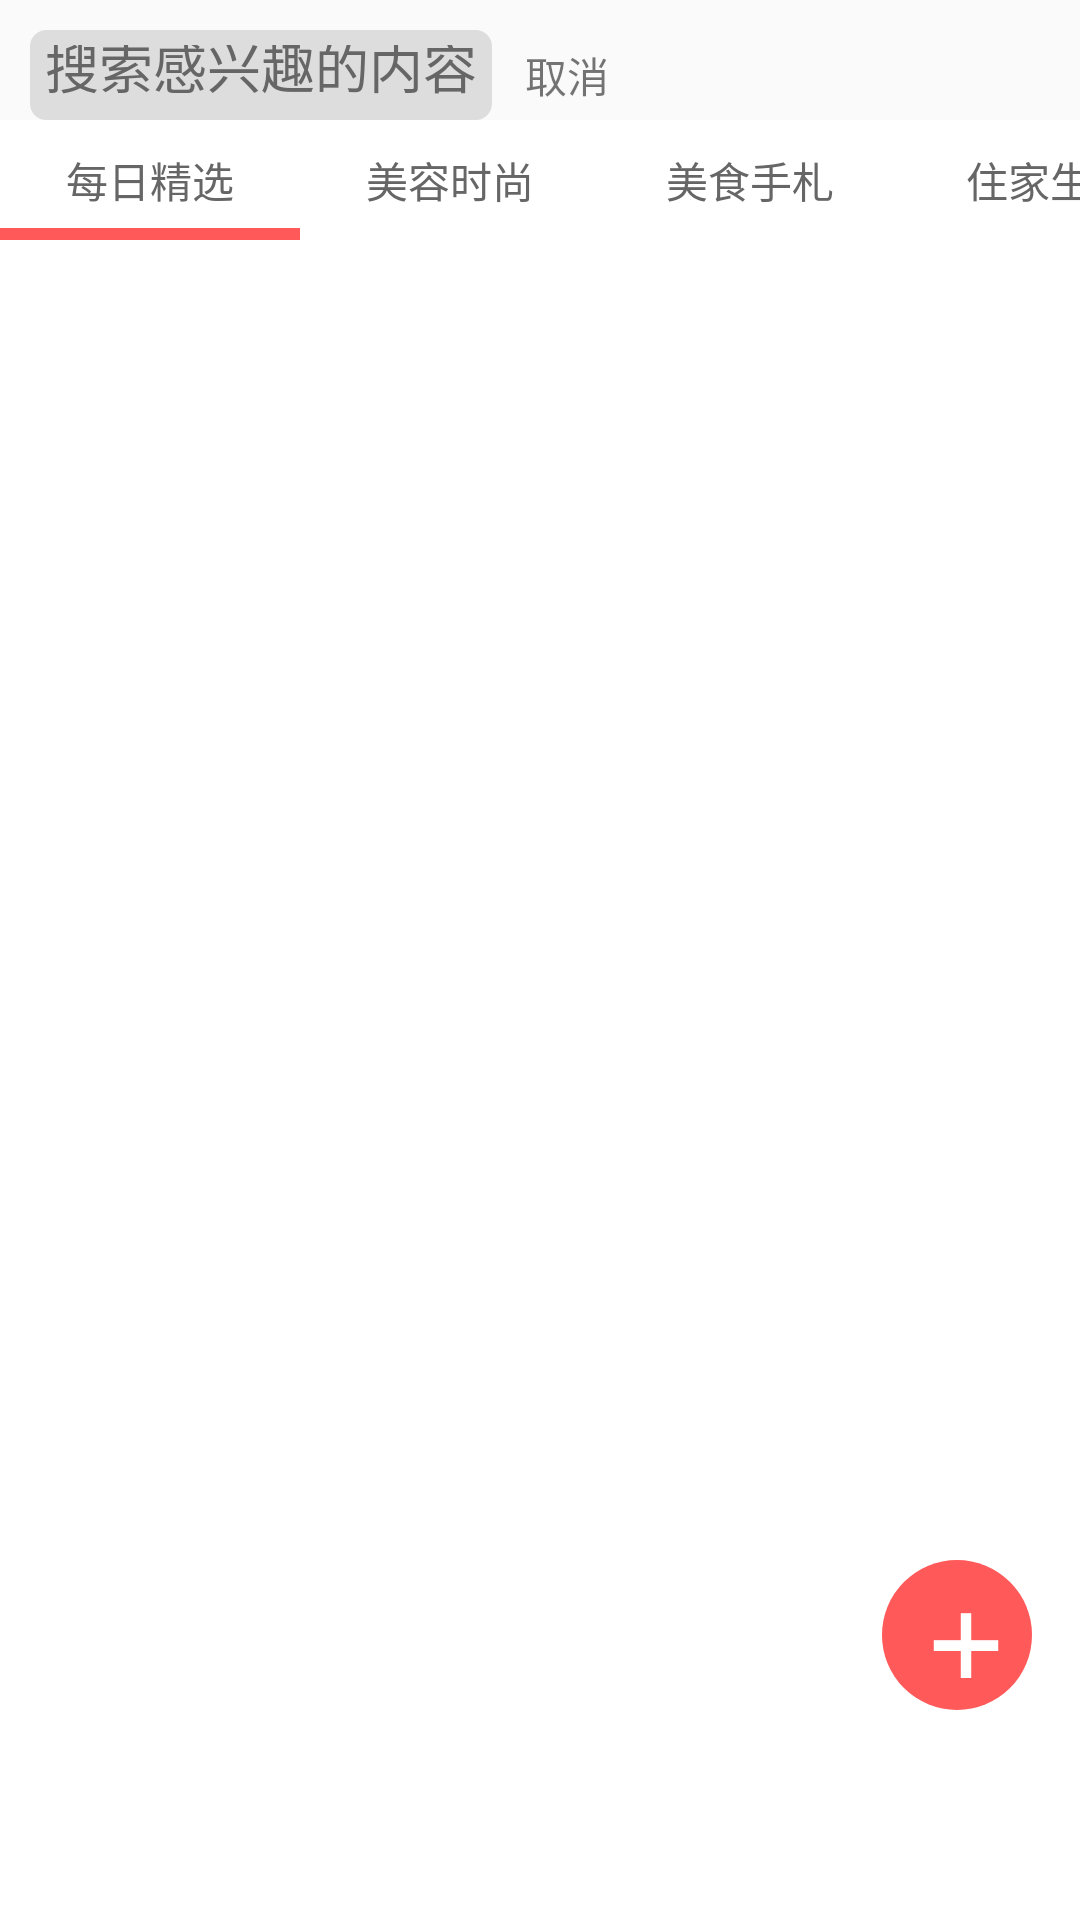

Where icons sit on this 1080×1920 app screen, as detection(x1, y1, x2, y2):
float add: detection(882, 1560, 1032, 1710)
